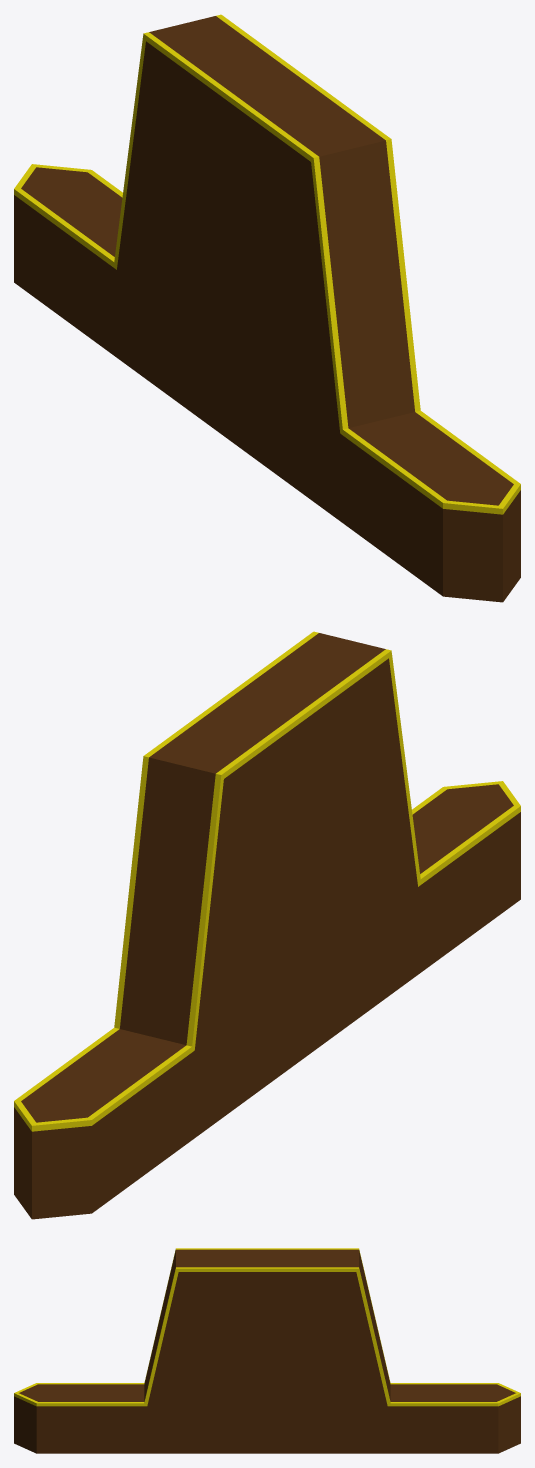
The model's file is Board_wall.fbx.
3 views of the same model, one above another, from view 1: azimuth 30°, elevation 25°; view 2: azimuth 150°, elevation 25°; view 3: azimuth 270°, elevation 25° (orthographic). The views are drawn at different scales.
Visible parts, largest first — view 1: Cube.017; view 2: Cube.017; view 3: Cube.017.
Part boxes in pixels (left/top/right/bottom): Cube.017: left=14, top=14, right=520, bottom=602; Cube.017: left=14, top=631, right=520, bottom=1219; Cube.017: left=14, top=1248, right=520, bottom=1453.
Size of the model in its own units: 14 by 59.03 by 147.
